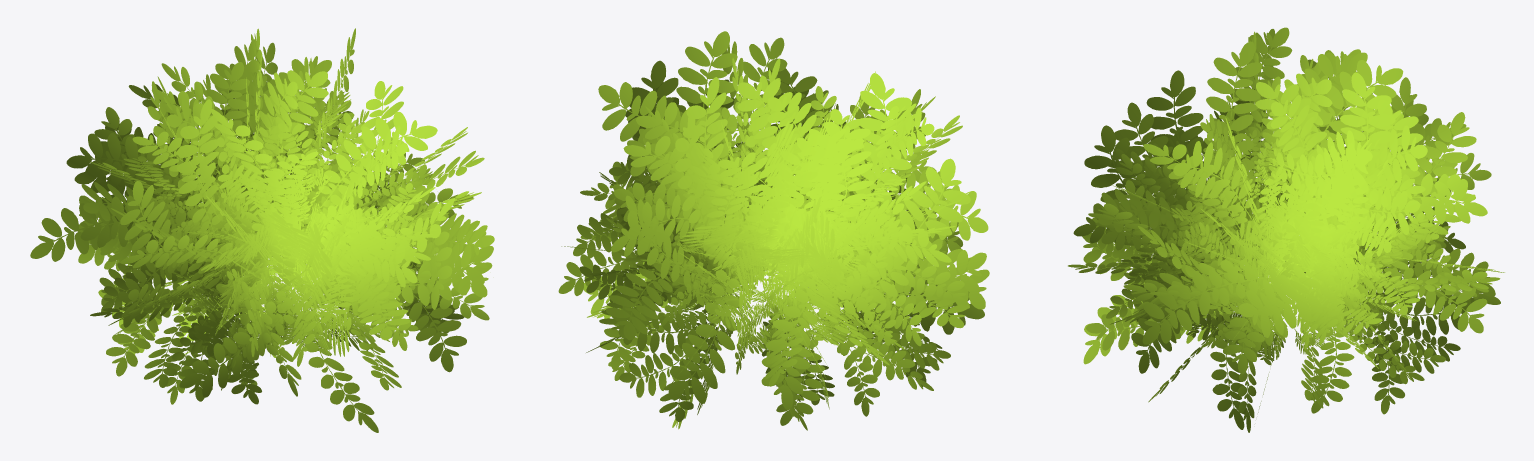
Rendered from BUISSON.FBX.
3 renders of one model, left to right at view 1: azimuth 30°, elevation 25°; view 2: azimuth 150°, elevation 25°; view 3: azimuth 270°, elevation 25°, orthographic. The views are drawn at different scales.
Visible parts, largest first — view 1: Cylinder008; view 2: Cylinder008; view 3: Cylinder008.
Boxes of the visible parts, x1,y1,x2,y2 form: Cylinder008: (30, 28, 494, 432); Cylinder008: (558, 31, 989, 430); Cylinder008: (1068, 27, 1504, 432).
Size of the model in its own units: 508 by 424 by 517.
